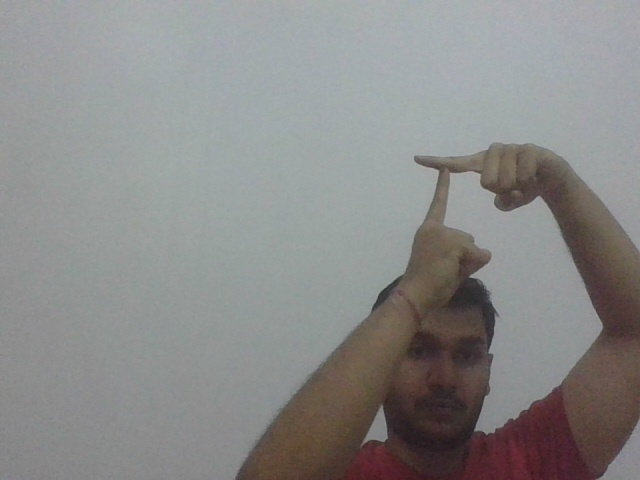T: (410, 148, 476, 224)
